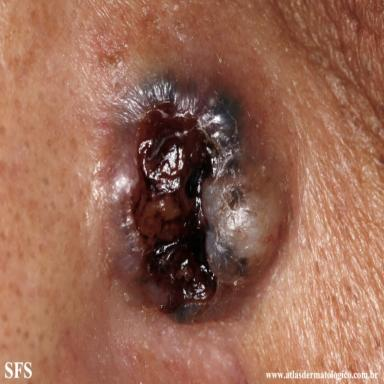basal-cell-carcinoma: (104, 57, 297, 322)
